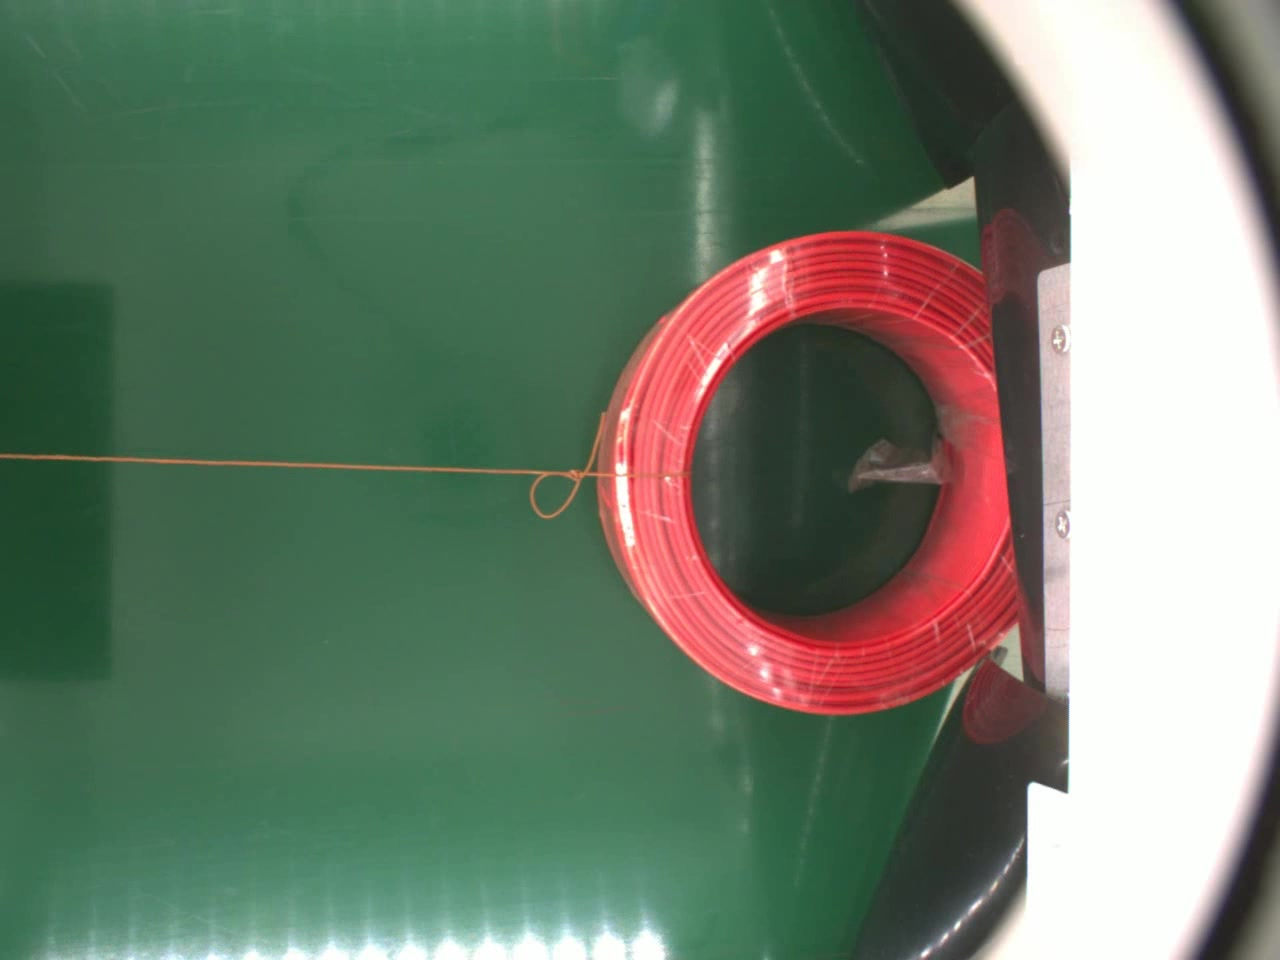red: (599, 230, 1020, 715)
